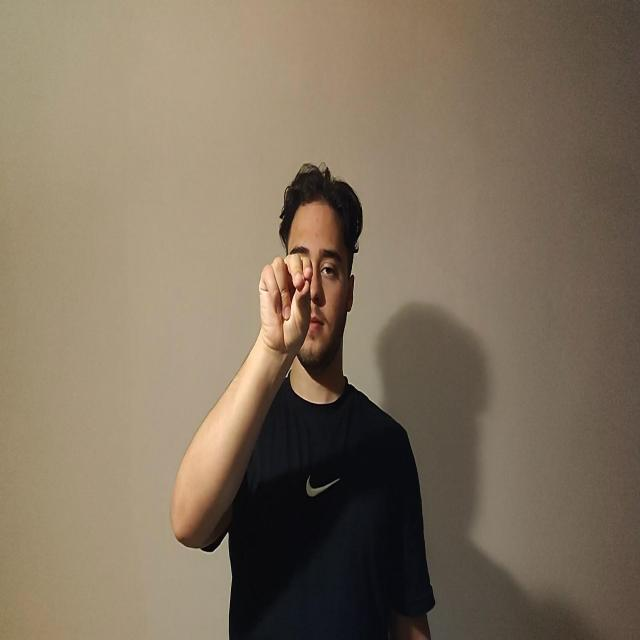no: (258, 252, 312, 355)
